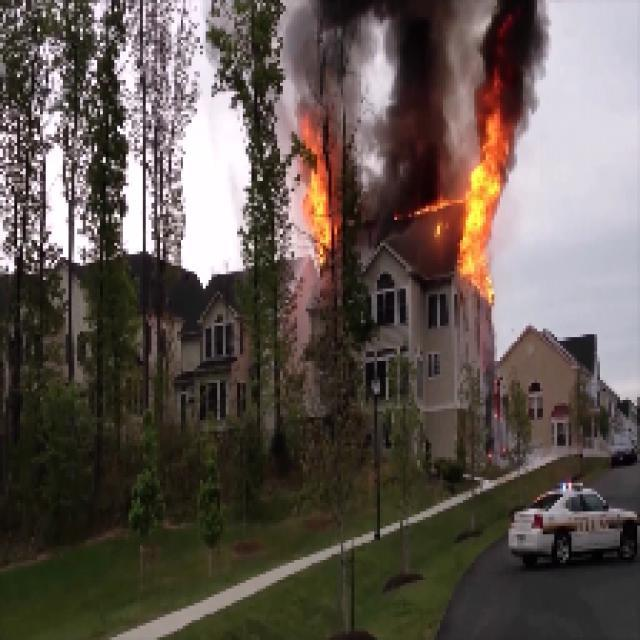Fire: (466, 102, 508, 282)
Smoke: (380, 8, 461, 199), (486, 0, 543, 92)
